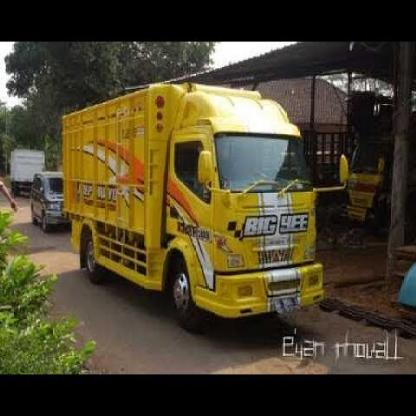truck: (63, 82, 350, 336)
